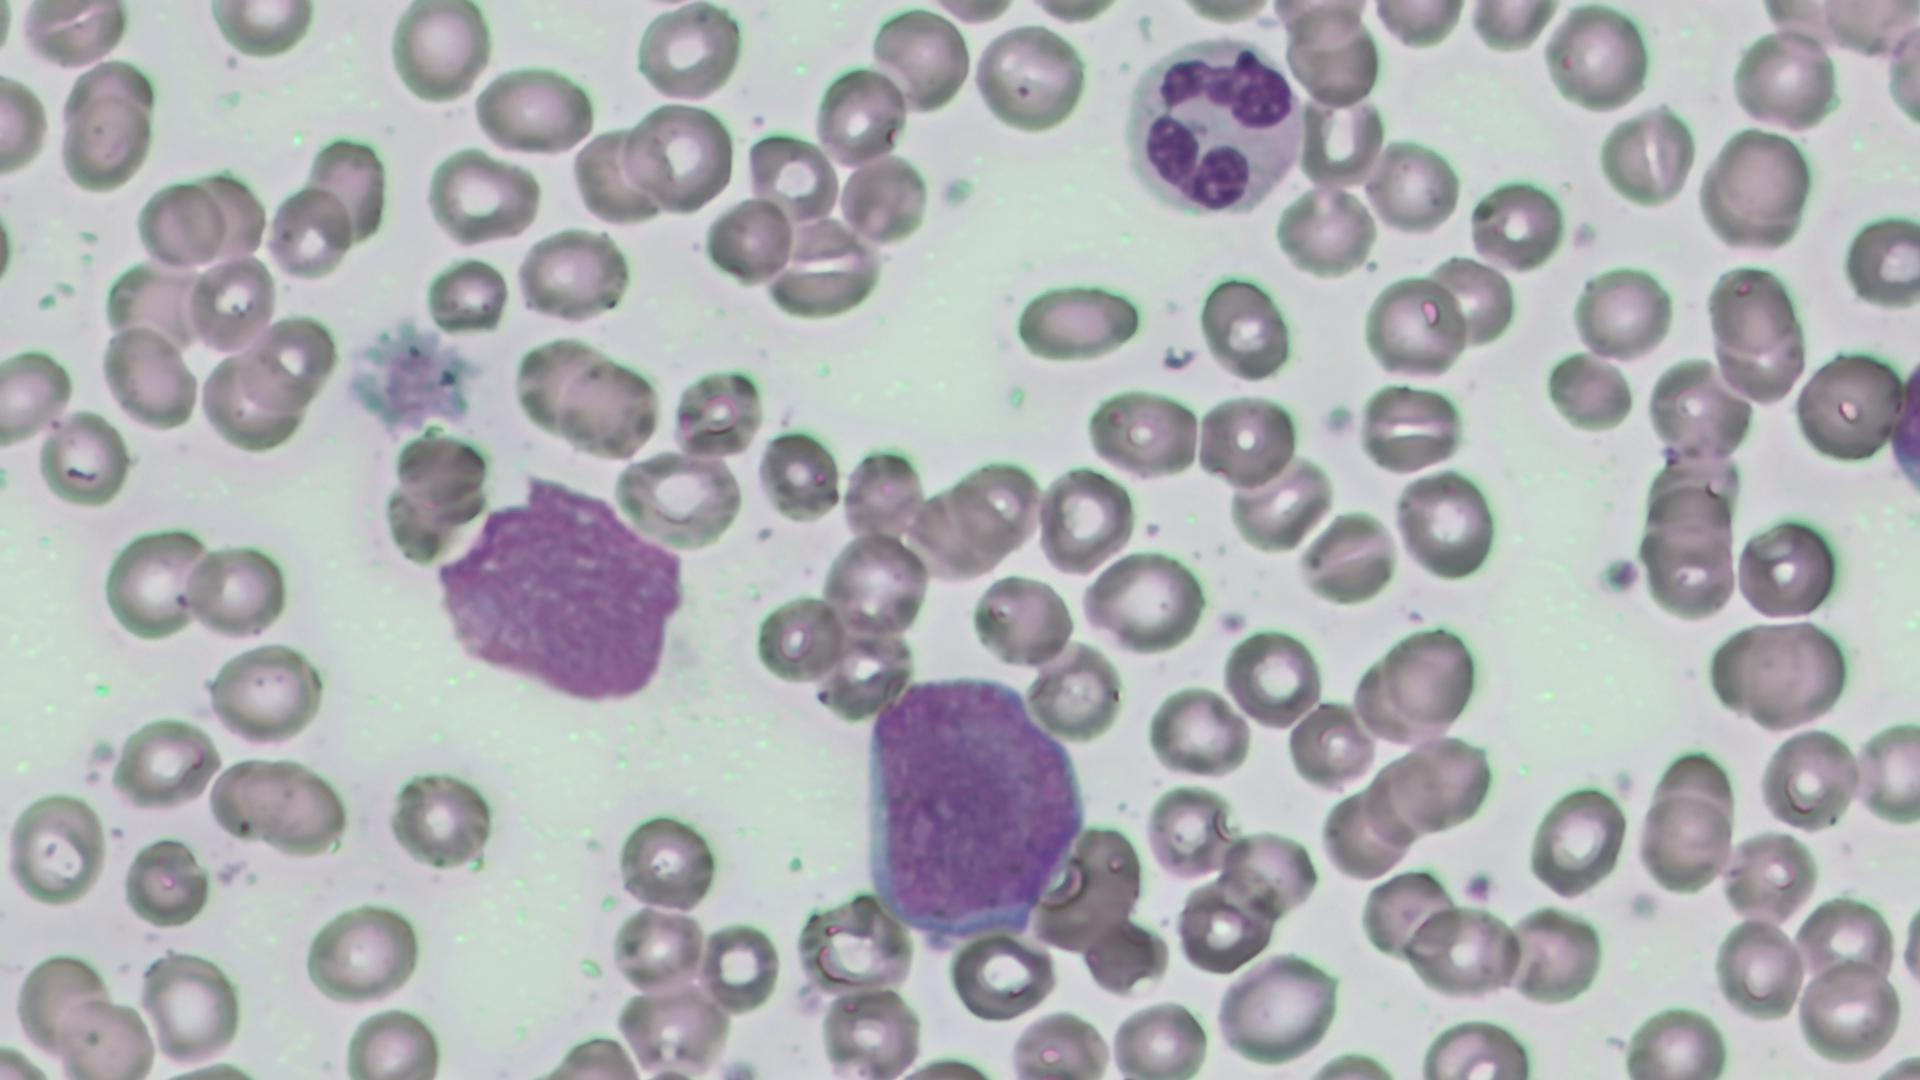Platelets: (933, 174, 980, 210), (711, 1055, 765, 1078), (1462, 869, 1496, 901), (375, 322, 405, 350), (1656, 443, 1680, 470)
RBC: (1707, 616, 1851, 729), (1696, 123, 1814, 257), (203, 752, 353, 854), (202, 640, 325, 752), (55, 59, 159, 191), (3, 786, 111, 912), (1792, 346, 1904, 467), (610, 448, 745, 548), (1215, 952, 1340, 1060), (621, 99, 736, 216), (136, 944, 246, 1066), (970, 20, 1087, 134), (1078, 547, 1204, 652), (103, 524, 214, 643), (1636, 489, 1736, 619), (301, 899, 422, 1004), (1540, 2, 1652, 115), (1405, 899, 1523, 1006), (1392, 464, 1498, 582), (763, 213, 883, 317), (797, 892, 914, 998), (1526, 780, 1629, 900), (866, 2, 973, 117), (424, 146, 543, 249), (470, 63, 598, 157), (1644, 356, 1755, 464), (1728, 26, 1839, 134), (512, 225, 630, 325), (1035, 462, 1137, 577), (822, 532, 932, 638), (1363, 273, 1468, 384), (634, 1, 746, 105), (614, 808, 721, 916), (386, 766, 493, 873), (1734, 512, 1839, 621), (1758, 726, 1860, 837), (557, 354, 663, 460), (1009, 276, 1141, 361), (1084, 385, 1199, 482), (183, 540, 289, 644), (112, 712, 221, 813), (1797, 956, 1902, 1060), (388, 2, 492, 107), (98, 323, 199, 431), (945, 928, 1058, 1024), (1145, 680, 1252, 781), (197, 350, 304, 450), (1596, 106, 1698, 210), (1378, 624, 1478, 730), (1193, 390, 1300, 489), (1228, 455, 1336, 552), (1719, 826, 1821, 928), (1222, 625, 1320, 731), (1794, 892, 1896, 993), (1283, 3, 1382, 107), (1356, 381, 1464, 476), (1636, 787, 1732, 893), (1198, 273, 1293, 380), (814, 62, 908, 169), (741, 125, 840, 226), (1505, 903, 1606, 1002), (1295, 505, 1397, 603), (570, 125, 667, 228), (1359, 865, 1458, 965), (1569, 263, 1671, 360), (1144, 780, 1238, 885), (971, 573, 1076, 667), (1712, 916, 1804, 1023), (33, 407, 132, 506), (1364, 136, 1460, 238), (820, 985, 926, 1076), (240, 310, 335, 411), (1273, 182, 1375, 276), (54, 990, 162, 1078), (1466, 176, 1563, 273), (752, 591, 850, 687), (670, 363, 767, 459), (135, 176, 231, 273), (836, 150, 930, 249), (607, 901, 708, 992), (186, 253, 275, 356), (1220, 826, 1317, 920), (837, 443, 928, 543), (264, 181, 354, 281), (1174, 887, 1272, 976), (1706, 262, 1798, 354), (1425, 254, 1512, 351), (755, 424, 841, 522), (1284, 698, 1377, 788), (392, 426, 489, 512), (1107, 998, 1212, 1076), (703, 194, 794, 284), (341, 1004, 449, 1078), (1005, 1007, 1116, 1079), (1842, 207, 1920, 309), (421, 254, 517, 335), (1622, 1004, 1726, 1077), (1416, 1016, 1534, 1077), (0, 345, 73, 442), (1854, 716, 1920, 822), (203, 1, 319, 58), (1884, 342, 1920, 522), (0, 64, 50, 181), (1364, 0, 1473, 48), (1881, 10, 1920, 143), (1011, 0, 1125, 26), (917, 0, 1022, 26)
WBC: (421, 473, 695, 709), (856, 673, 1096, 938), (1121, 31, 1312, 221)
